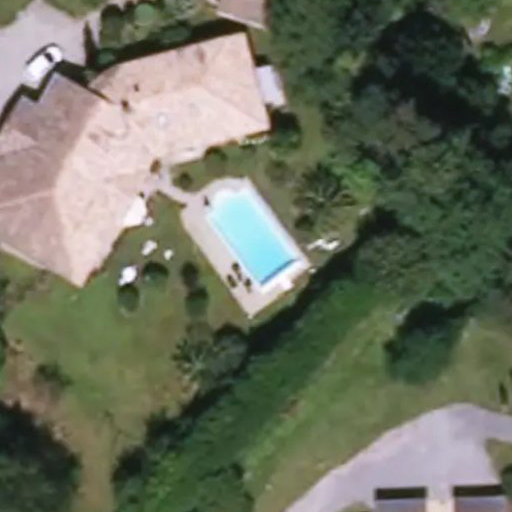pool: (203, 209, 302, 265)
